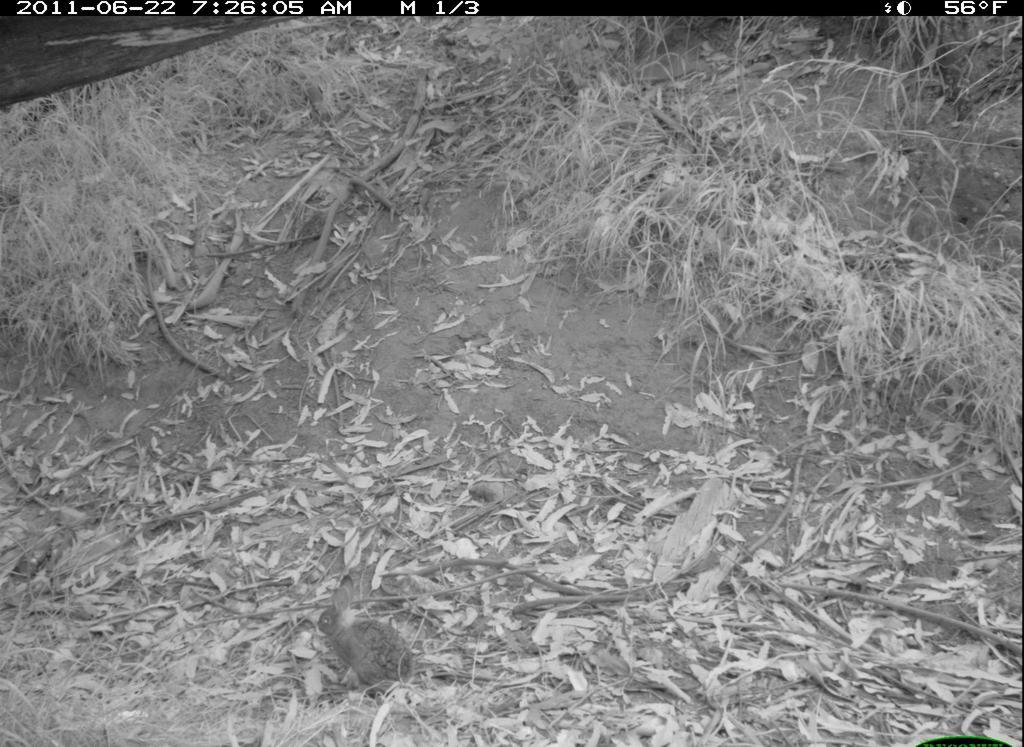rabbit: (312, 570, 422, 702)
